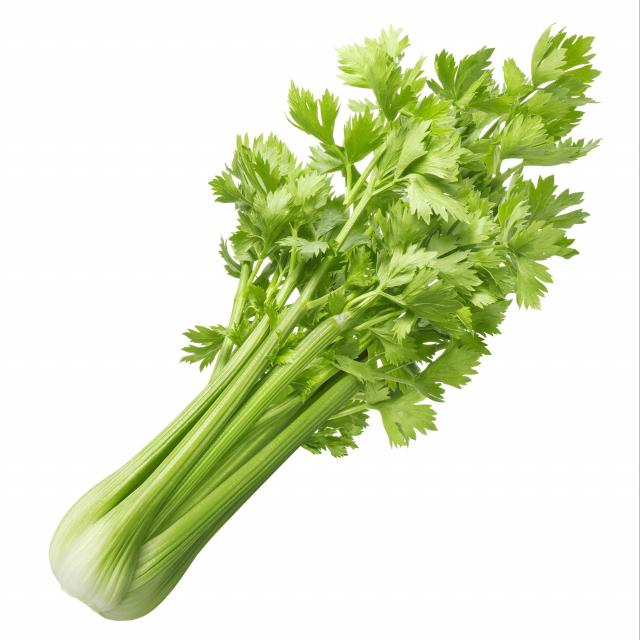Celery stalk: (33, 16, 616, 640)
